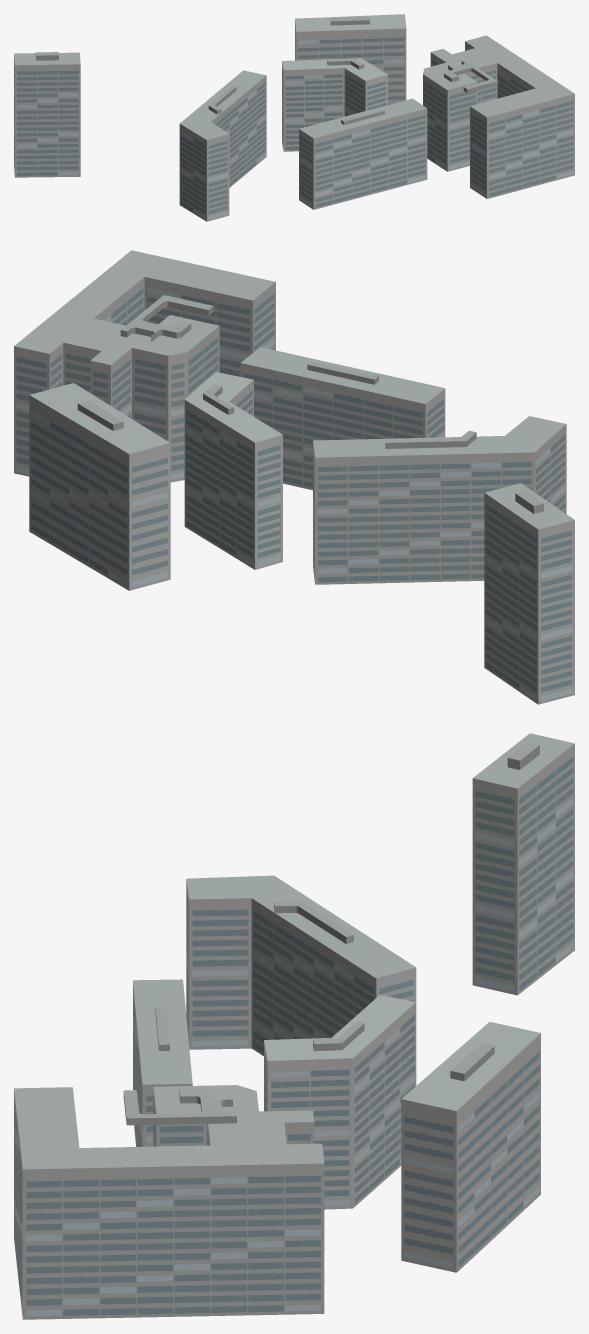
File: apt-a15786408.glb
3 views of the same model, one above another, from view 1: azimuth 30°, elevation 25°; view 2: azimuth 150°, elevation 25°; view 3: azimuth 270°, elevation 25° (orthographic). The views are drawn at different scales.
Visible parts, largest first — view 1: apt-a15786408; view 2: apt-a15786408; view 3: apt-a15786408.
Boxes of the visible parts, box(x1,y1,x2,y2) form: apt-a15786408: box(14, 14, 574, 221); apt-a15786408: box(14, 250, 574, 704); apt-a15786408: box(14, 733, 574, 1319).
Size of the model in its own units: 207 by 55 by 129.
